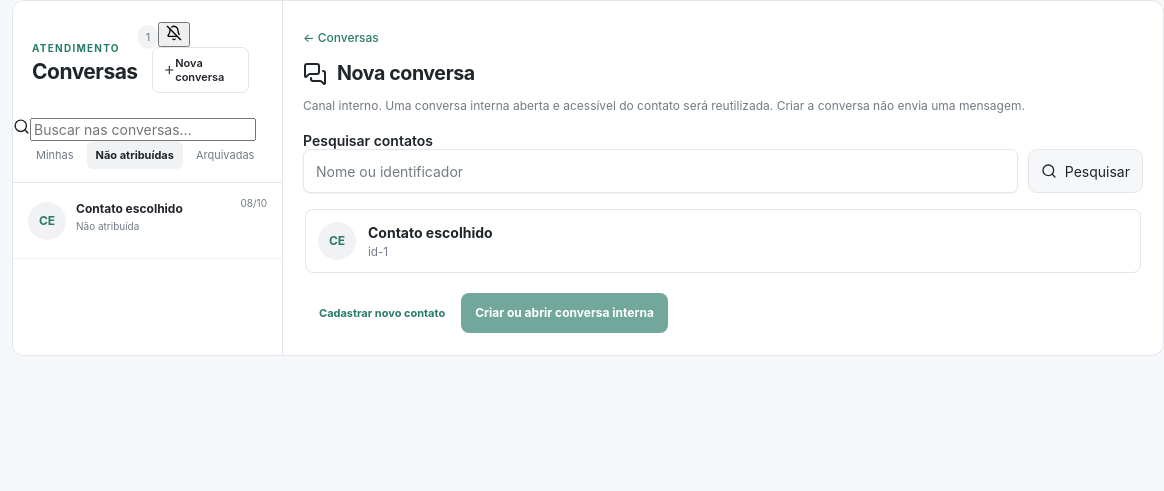
M1 manual internal conversation flow › handles conflict/failure and lets the user retry safely
This screenshot has width=1164, height=491.
Click the button with aria-label "Selecionar Contato escolhido" at x=337, y=241, box [305,209,1141,273]
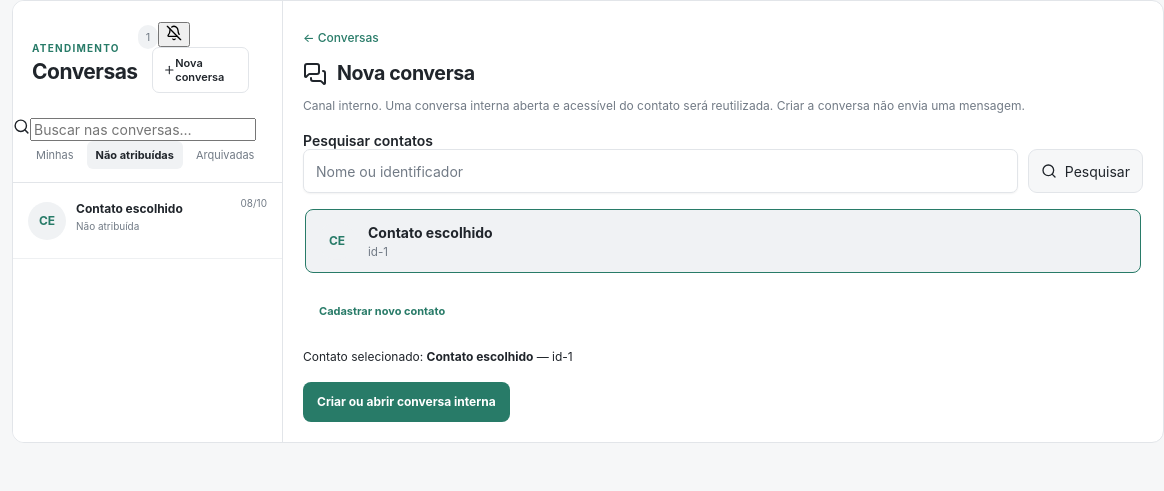
Click the button "Criar ou abrir conversa interna" at x=406, y=402, box [303,382,510,422]
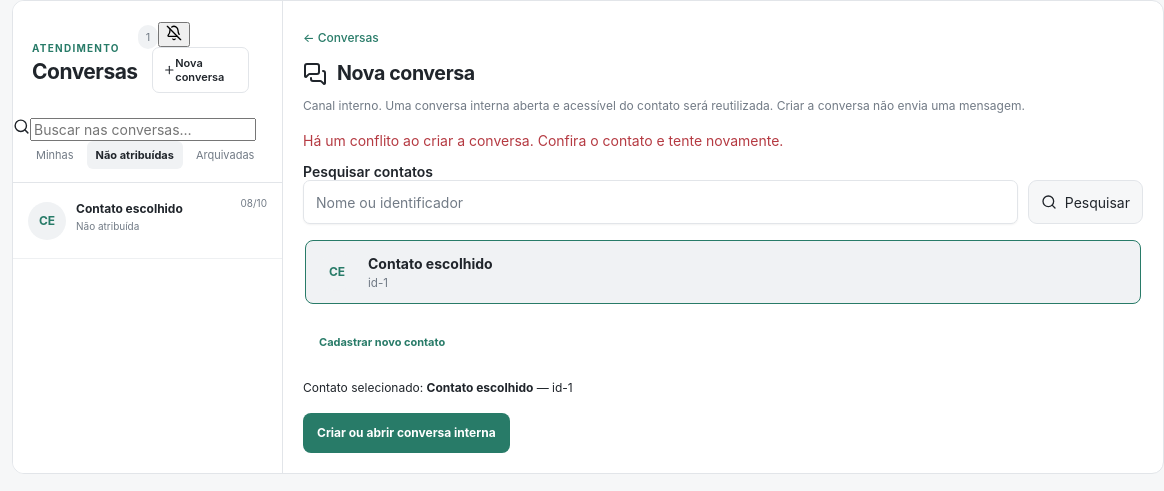
Expected: the message "Há um conflito ao criar a conversa. Confira o contato e tente novamente." is shown, [303,132,783,149]
Click the button "Criar ou abrir conversa interna" at x=406, y=433, box [303,413,510,453]
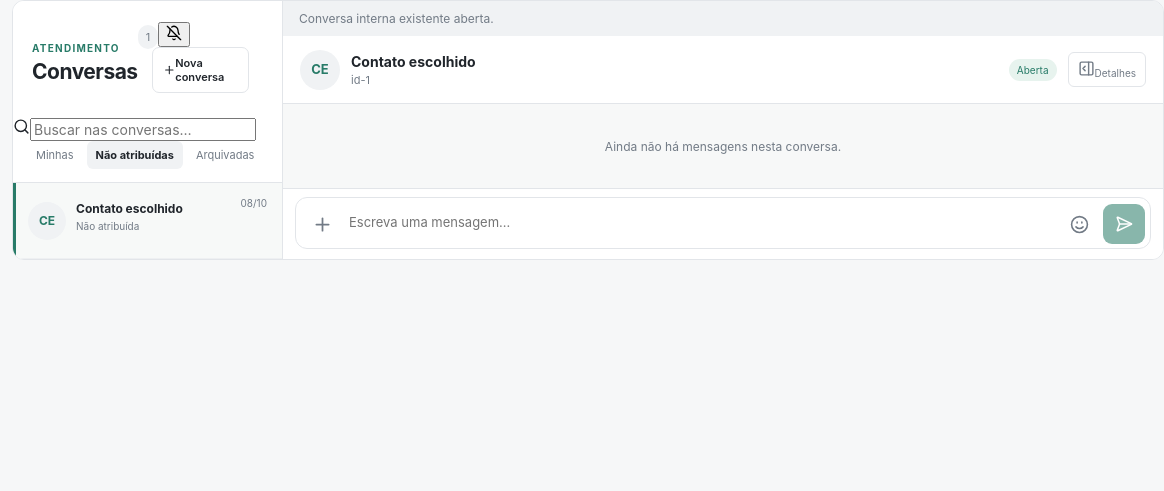
Expected: the text "Conversa interna existente aberta." is shown, [283,1,1163,36]
